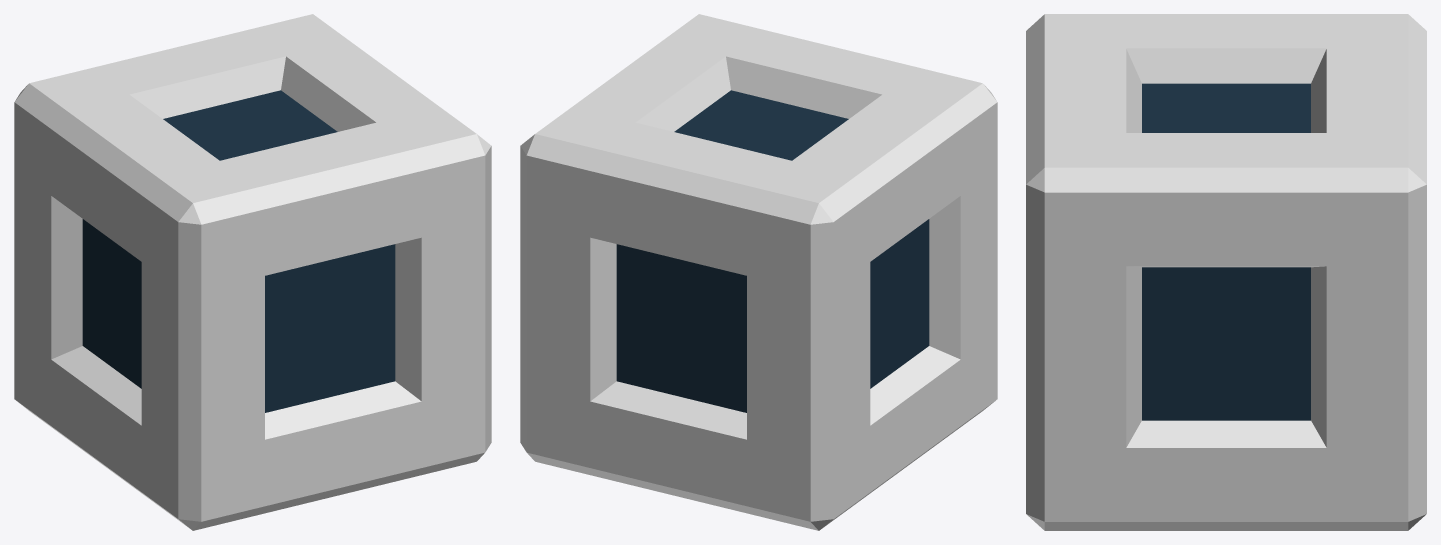
File: kube.fbx
3 renders of one model, left to right at view 1: azimuth 30°, elevation 25°; view 2: azimuth 150°, elevation 25°; view 3: azimuth 270°, elevation 25°, orthographic. The views are drawn at different scales.
Visible parts, largest first — view 1: Cube, Cube.001; view 2: Cube, Cube.001; view 3: Cube, Cube.001.
Part boxes in pixels (x1,y1,x2,y2): Cube: [14, 14, 491, 530]; Cube.001: [82, 90, 395, 412]; Cube: [520, 14, 997, 530]; Cube.001: [616, 90, 929, 412]; Cube: [1026, 14, 1426, 530]; Cube.001: [1142, 83, 1310, 420].
Size of the model in its own units: 237 by 237 by 237.
